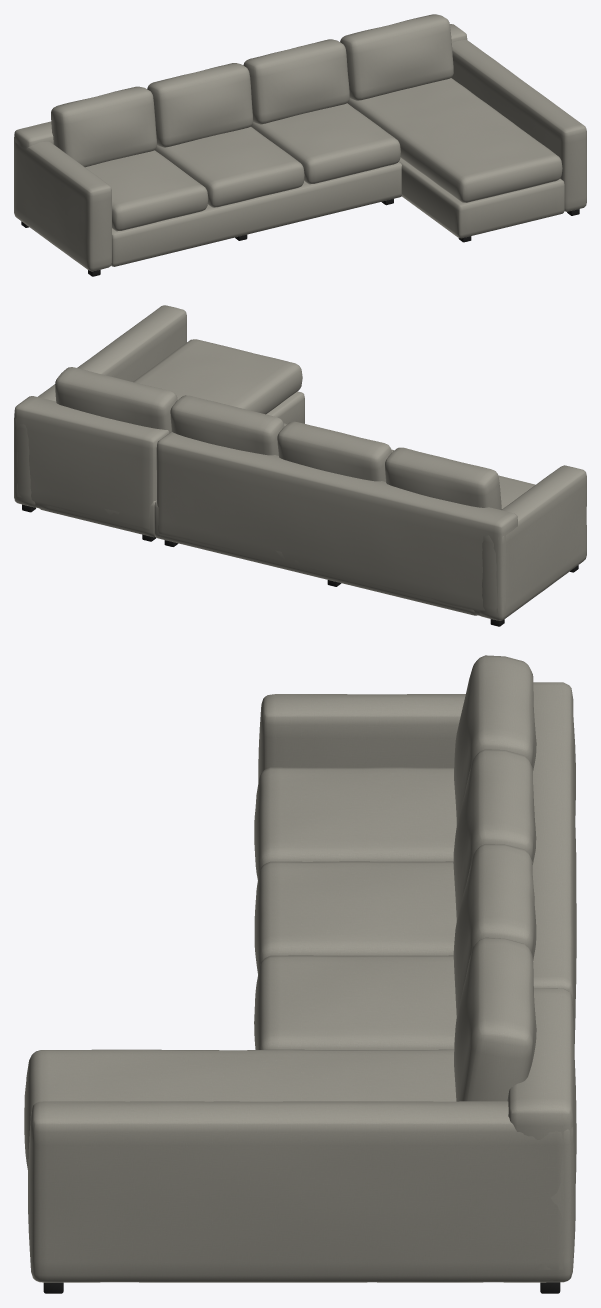
The model's file is sofa_chaise_derecha_4p.glb.
The picture shows the model from 3 angles, top to bottom: view 1: azimuth 30°, elevation 25°; view 2: azimuth 150°, elevation 25°; view 3: azimuth 270°, elevation 25°; orthographic projection. The views are drawn at different scales.
Visible parts, largest first — view 1: sofa_chaise_derecha_4p; view 2: sofa_chaise_derecha_4p; view 3: sofa_chaise_derecha_4p.
Boxes of the visible parts, left/top/right/bottom form: sofa_chaise_derecha_4p: left=14, top=14, right=586, bottom=276; sofa_chaise_derecha_4p: left=14, top=305, right=586, bottom=626; sofa_chaise_derecha_4p: left=24, top=655, right=576, bottom=1293.
Bounding box in the file's own units: 3.11 × 0.827 × 1.68.
2 materials, 1 textured.
